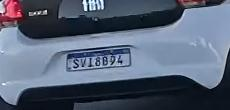Placa_mercosul_carro: (66, 47, 132, 72)
